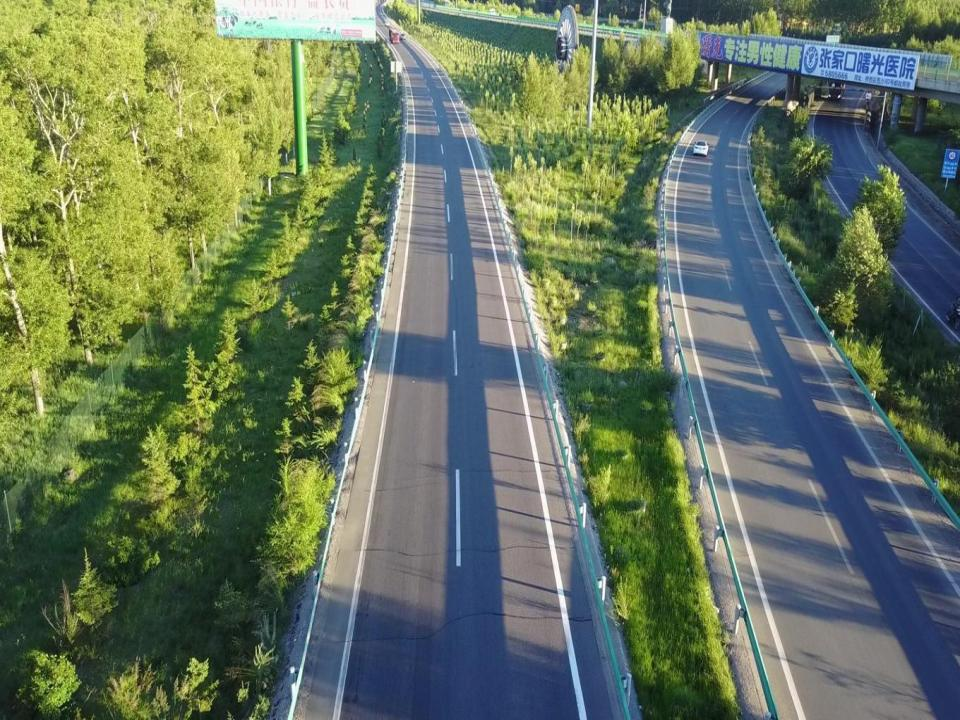car: (694, 139, 710, 156), (399, 33, 405, 40), (384, 21, 390, 26)
truck: (828, 68, 848, 100), (388, 28, 399, 44)
